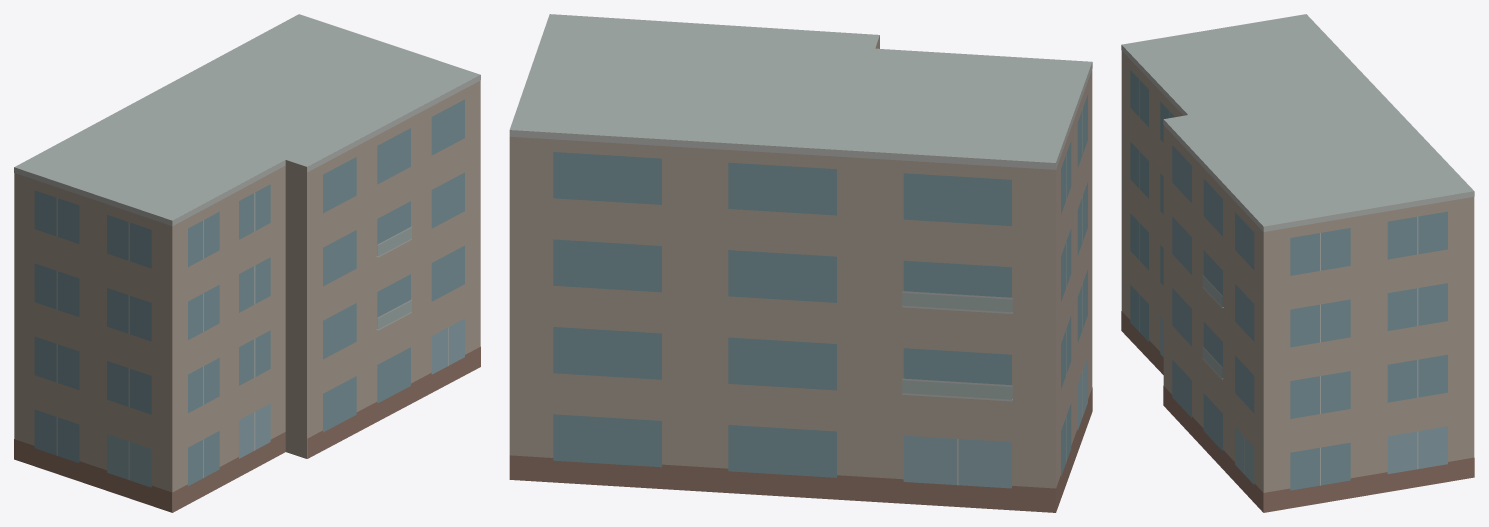
Rendered from survey-upis-32754714.glb.
3 views of the same model, side by side, from view 1: azimuth 30°, elevation 25°; view 2: azimuth 150°, elevation 25°; view 3: azimuth 270°, elevation 25° (orthographic). The views are drawn at different scales.
Visible parts, largest first — view 1: survey-upis-32754714.tmp; view 2: survey-upis-32754714.tmp; view 3: survey-upis-32754714.tmp.
Boxes of the visible parts, x1,y1,x2,y2 form: survey-upis-32754714.tmp: (14, 14, 480, 512); survey-upis-32754714.tmp: (509, 14, 1092, 512); survey-upis-32754714.tmp: (1121, 14, 1474, 512).
Bounding box in the file's own units: 20.24 × 12.7 × 14.2.
